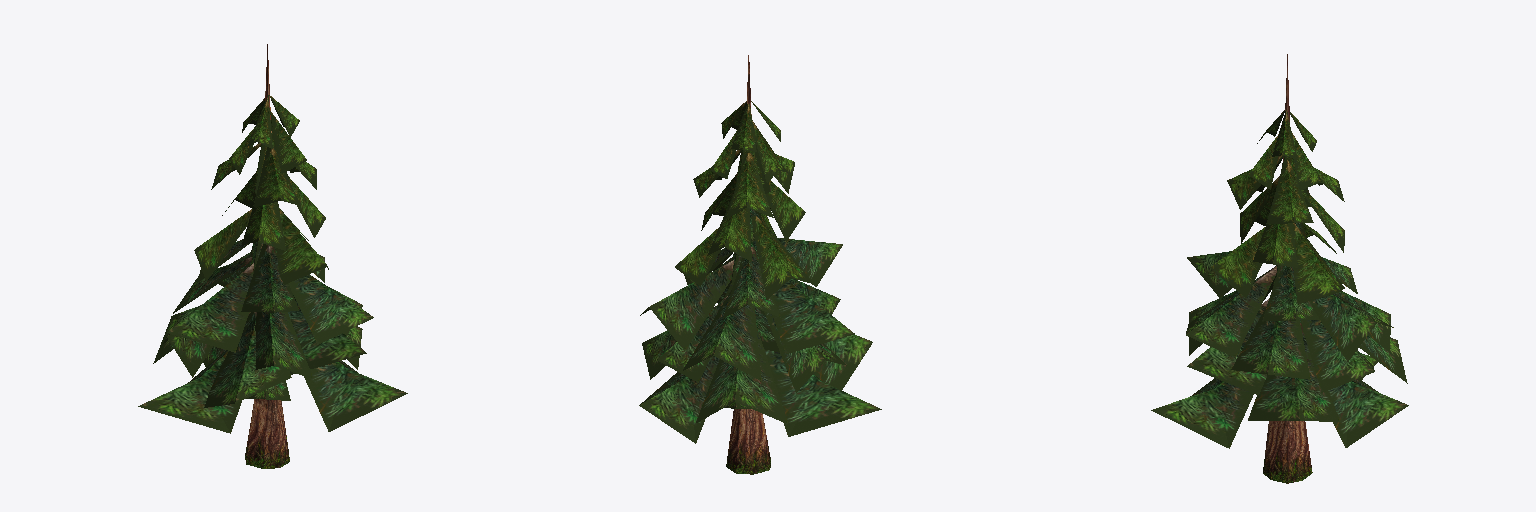
The picture shows the model from 3 angles: view 1: azimuth 30°, elevation 25°; view 2: azimuth 150°, elevation 25°; view 3: azimuth 270°, elevation 25°; orthographic projection.
Visible parts, largest first — view 1: Geoset_1, Geoset_0; view 2: Geoset_1, Geoset_0; view 3: Geoset_1, Geoset_0.
Boxes of the visible parts, <box> form: Geoset_1: <box>138,95,407,433</box>; Geoset_0: <box>245,44,289,468</box>; Geoset_1: <box>639,101,881,443</box>; Geoset_0: <box>726,55,770,474</box>; Geoset_1: <box>1151,110,1408,448</box>; Geoset_0: <box>1263,54,1312,483</box>.
Bounding box in the file's own units: 31.01 × 53.41 × 29.85.
2 materials, 2 textured.